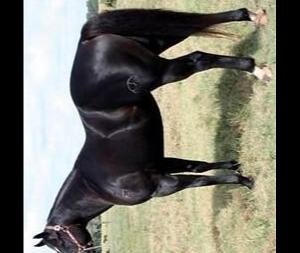horse: (31, 6, 272, 253)
